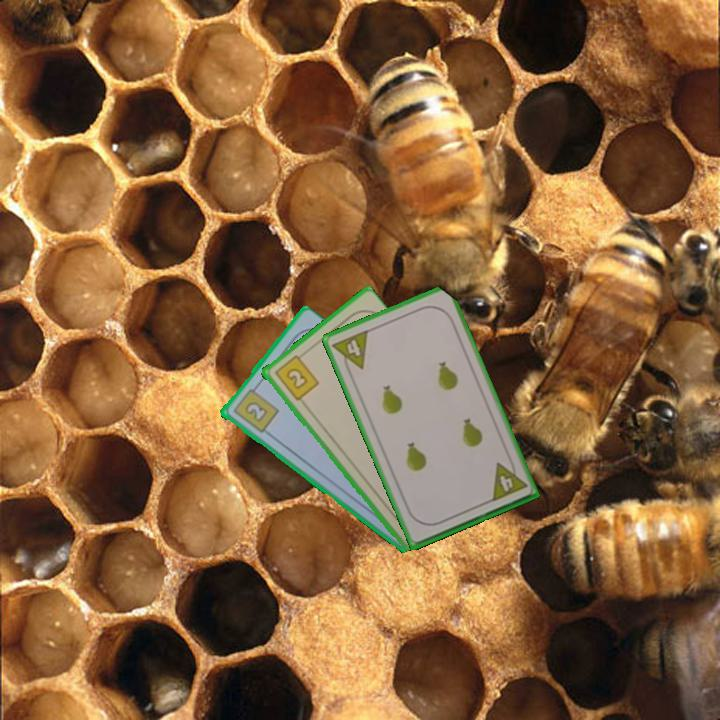2b: (229, 382, 281, 436), (271, 349, 321, 403)
4p: (328, 326, 371, 377), (487, 455, 530, 504)
